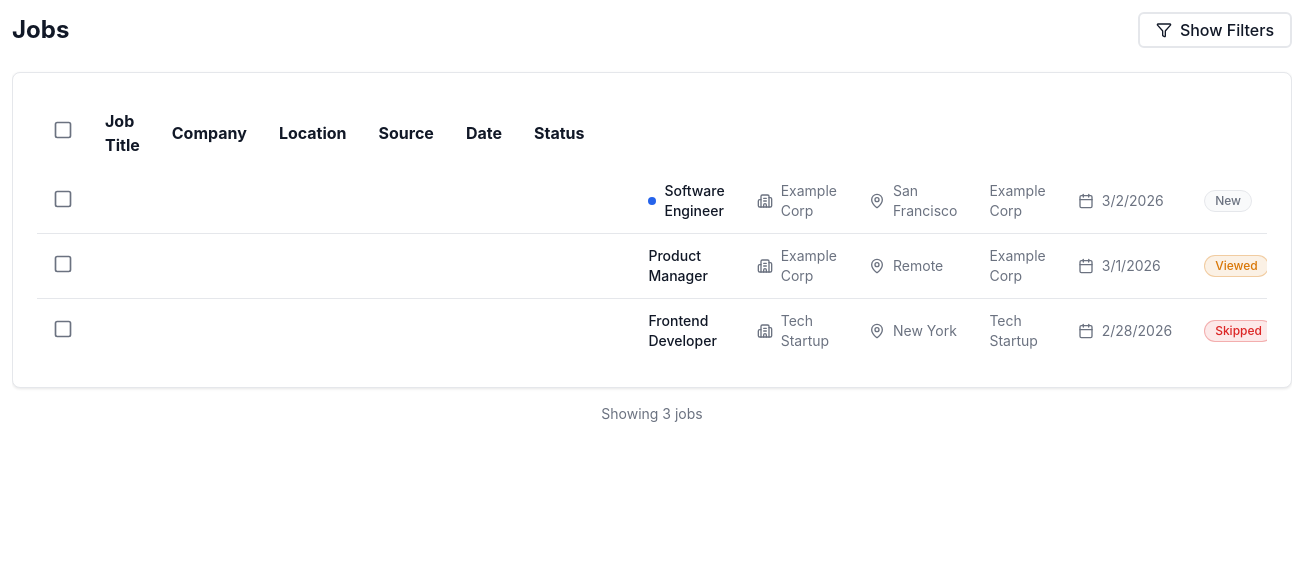
Scenario: Jobs Page › shows no results message when filters return empty
Expected: the text "Software Engineer" is shown, [664,181,725,221]
// Open filter panel
Click the button "Show Filters" at (1215, 30), box [1138,12,1292,48]
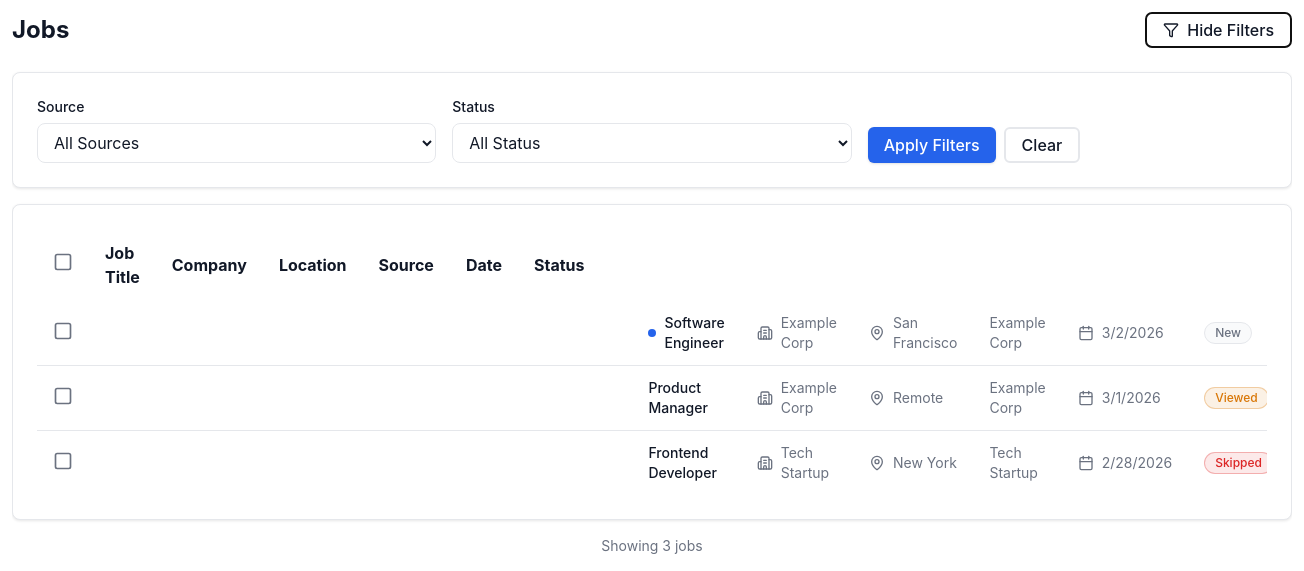
// Select a source filter so the "no results" branch is reached
Select "Example Corp" in the dropdown labelled "Source" at (237, 143), box [37,123,436,163]
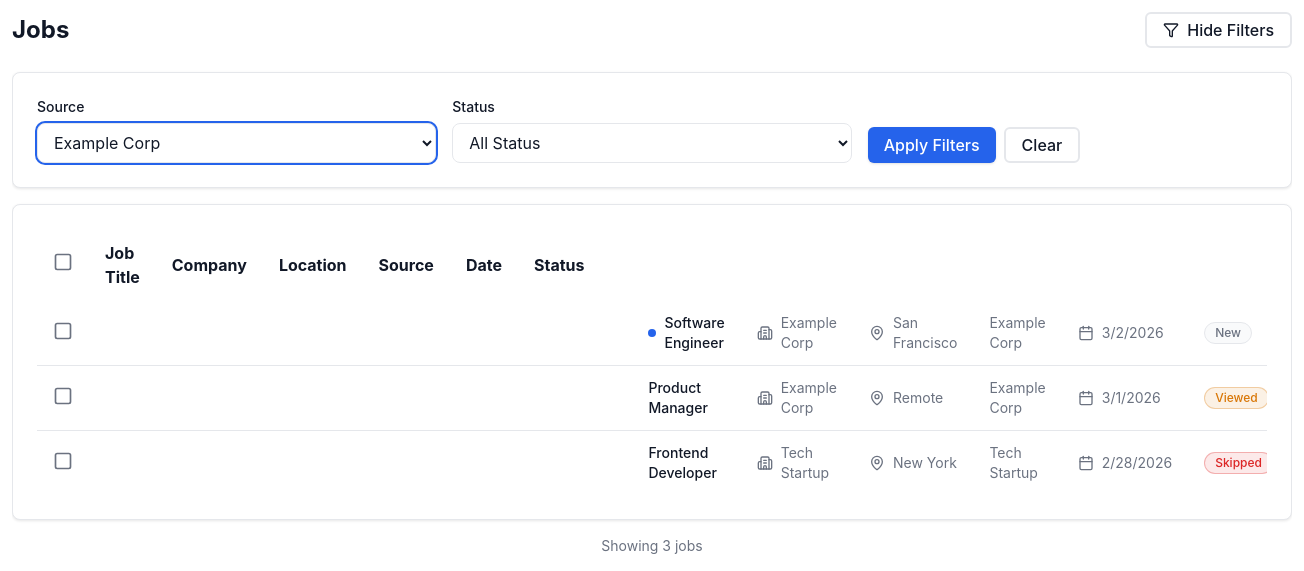
Click the button "Apply Filters" at (932, 145), box [868,127,996,163]
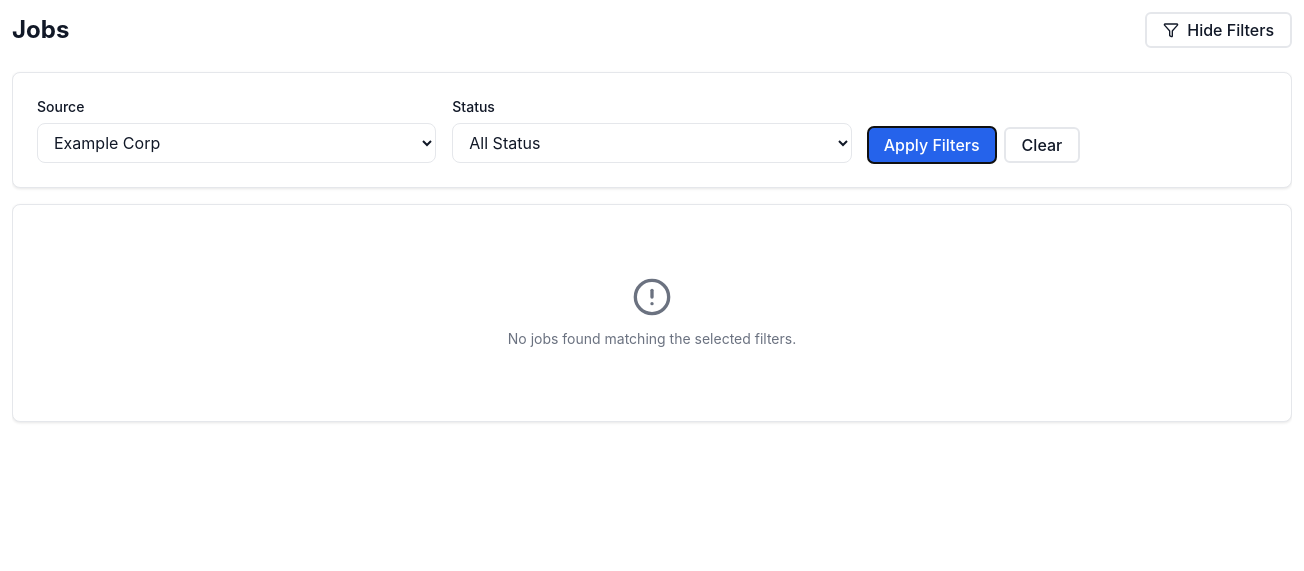
Expected: the text "No jobs found matching the selected filters." is shown, [508,329,796,349]
